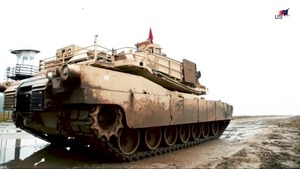abrams: (2, 51, 236, 154)
